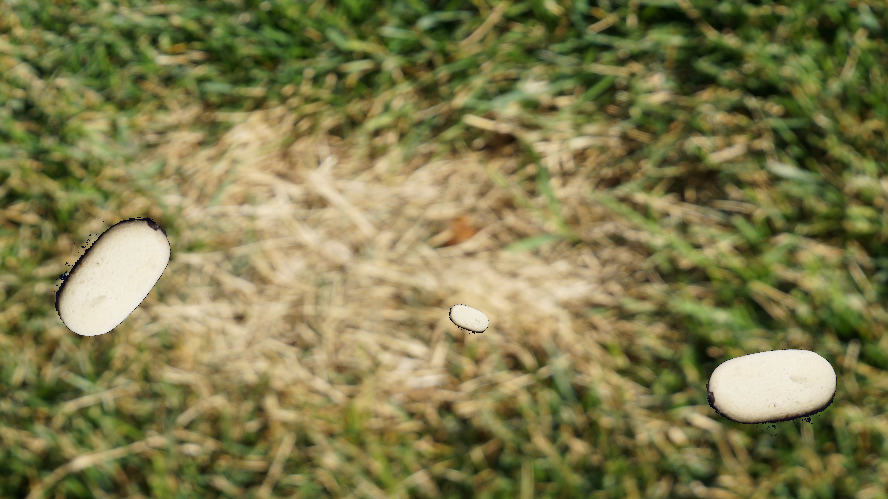test: (690, 310, 851, 470), (41, 205, 181, 340), (443, 294, 492, 344)
